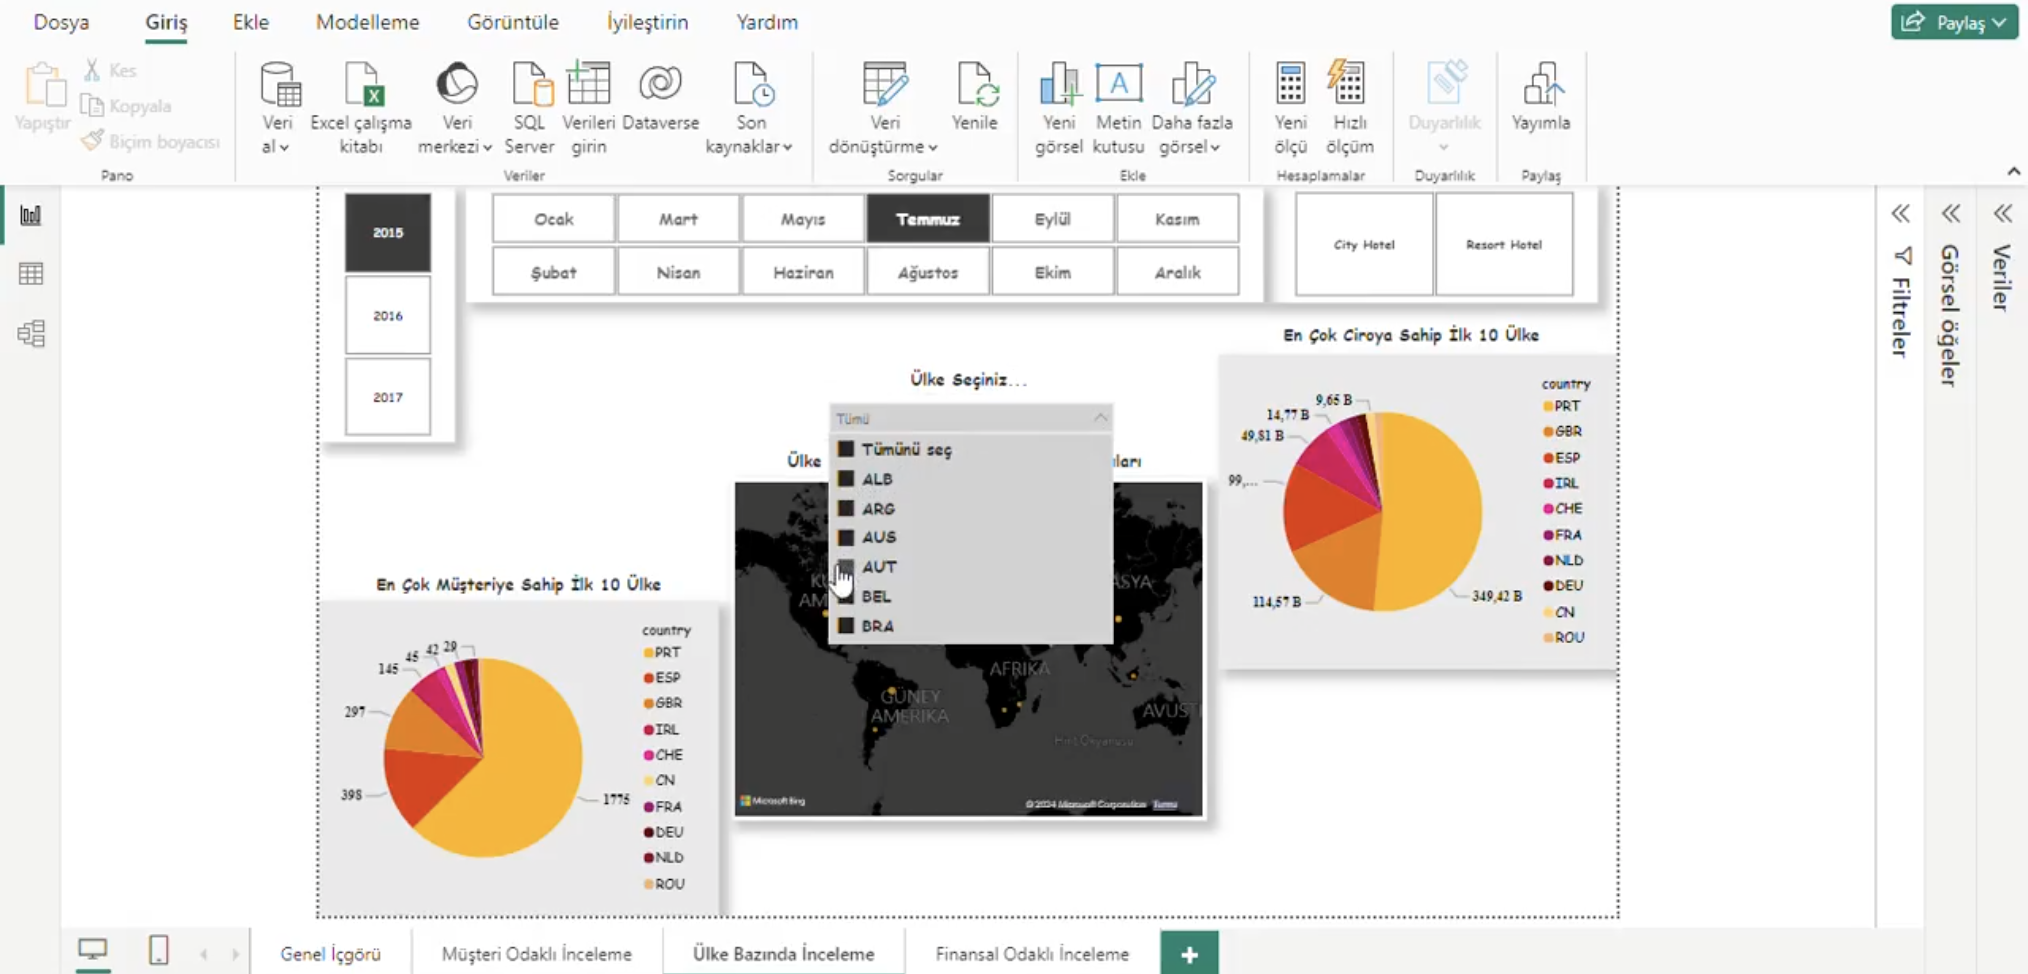

Layout of this report page (visuals, bound fields, positions):
{"tool":"powerbi","page":{"name":"Ülke Bazında İnceleme","canvas":[1280,720],"ordinal":2},"visuals":[{"type":"textbox","box":[457.1,254,387.3,46],"z":0},{"type":"textbox","box":[577.8,174.6,150.8,41.3],"z":1000},{"type":"slicer","fields":{"Values":["hotel_bookings.country"]},"box":[493.7,204.8,300,47.6],"z":2000},{"type":"actionButton","box":[0,0,100,40],"z":3000},{"type":"map","fields":{"Category":["hotel_bookings.country"],"Size":["DAX.Toplam misafir sayısı"]},"box":[404.8,288.9,469.8,338.1],"z":4000},{"type":"textbox","box":[946,130.2,273,44.4],"z":5000},{"type":"textbox","box":[50.8,376.2,314.3,44.4],"z":6000},{"type":"pieChart","fields":{"Category":["hotel_bookings.country"],"Y":["DAX.Toplam Ciro"]},"box":[886.8,166.8,393.7,310.2],"z":7000},{"type":"pieChart","fields":{"Category":["hotel_bookings.country"],"Y":["DAX.Toplam misafir sayısı"]},"box":[0,409.5,393.7,309.5],"z":8000},{"type":"slicer","fields":{"Values":["hotel_bookings.hotel"]},"box":[936.5,0,323.8,115.9],"z":9000},{"type":"slicer","fields":{"Values":["hotel_bookings.Arrival_date.Varyasyon.Tarih Hiyerarşisi.Yıl"]},"box":[0,1.5,134.3,252.2],"z":10000},{"type":"slicer","fields":{"Values":["hotel_bookings.Arrival_date.Varyasyon.Tarih Hiyerarşisi.Ay"]},"box":[144.4,1.6,785.7,114.3],"z":11000}]}

Visuals, with their boxes on the page's 1280x720 design canvas (x1, y1, x2, y2). These are canvas units, not pixel positions in the 2028x974 screenshot, which may show the page scaled, cropped or inside an application window:
textbox: [457,254,844,300]
textbox: [578,175,729,216]
slicer - hotel_bookings.country: [494,205,794,252]
actionButton: [0,0,100,40]
map - hotel_bookings.country x DAX.Toplam misafir sayısı: [405,289,875,627]
textbox: [946,130,1219,175]
textbox: [51,376,365,421]
pieChart - hotel_bookings.country x DAX.Toplam Ciro: [887,167,1280,477]
pieChart - hotel_bookings.country x DAX.Toplam misafir sayısı: [0,410,394,719]
slicer - hotel_bookings.hotel: [936,0,1260,116]
slicer - hotel_bookings.Arrival_date.Varyasyon.Tarih Hiyerarşisi.Yıl: [0,2,134,254]
slicer - hotel_bookings.Arrival_date.Varyasyon.Tarih Hiyerarşisi.Ay: [144,2,930,116]
